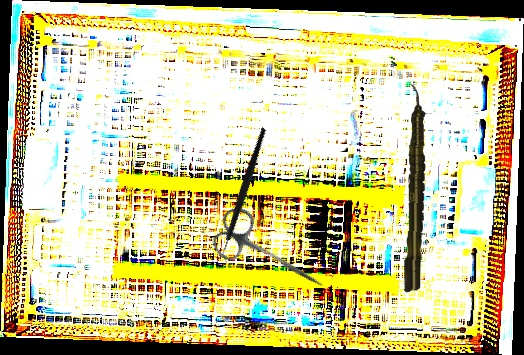Chopper: (182, 126, 308, 266)
Handpiece: (402, 83, 429, 294)
Iris Scissors: (205, 201, 338, 308)
